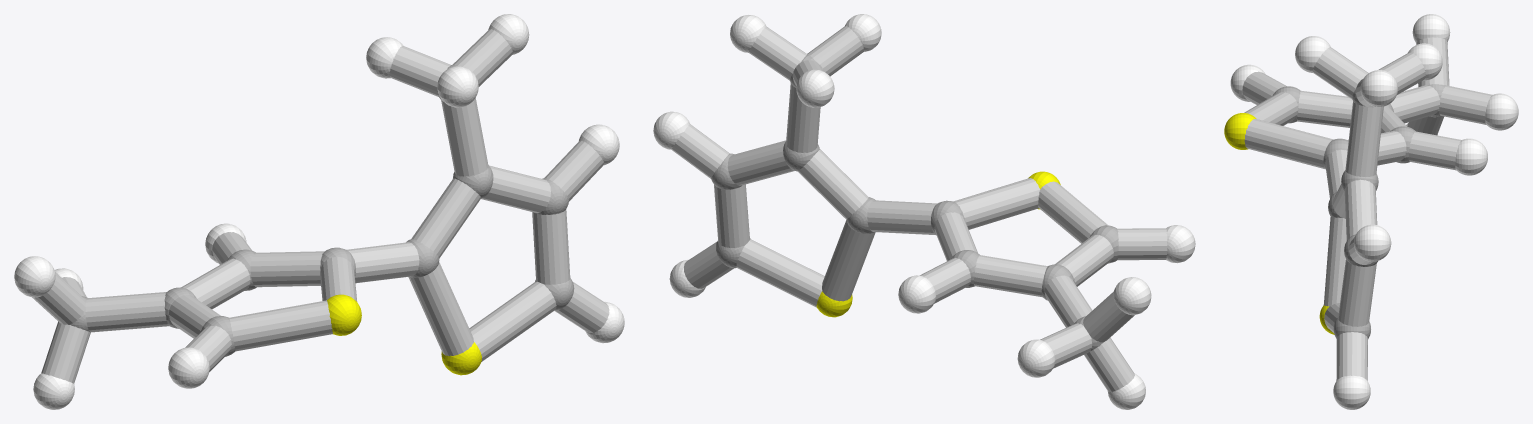
The model's file is Methylthiophene_Phi_15_Theta_270_Methylthiophene.glb.
3 renders of one model, left to right at view 1: azimuth 30°, elevation 25°; view 2: azimuth 150°, elevation 25°; view 3: azimuth 270°, elevation 25°, orthographic. The views are drawn at different scales.
Visible parts, largest first — view 1: grp7965, grp3621, grp1, grp7241; view 2: grp7965, grp3621, grp1, grp7241; view 3: grp7965, grp3621, grp1, grp7241.
Boxes of the visible parts, left/top/right/bottom form: grp7965: left=32, top=29, right=609, bottom=383; grp3621: left=14, top=14, right=624, bottom=409; grp1: left=69, top=65, right=574, bottom=356; grp7241: left=327, top=294, right=481, bottom=375; grp7965: left=671, top=26, right=1167, bottom=392; grp3621: left=653, top=14, right=1195, bottom=409; grp1: left=711, top=54, right=1118, bottom=350; grp7241: left=816, top=171, right=1060, bottom=317; grp7965: left=1242, top=37, right=1492, bottom=380; grp3621: left=1230, top=14, right=1518, bottom=409; grp1: left=1272, top=84, right=1446, bottom=338; grp7241: left=1224, top=113, right=1334, bottom=334.
Bounding box in the file's own units: 9.45 × 5.32 × 4.71.
